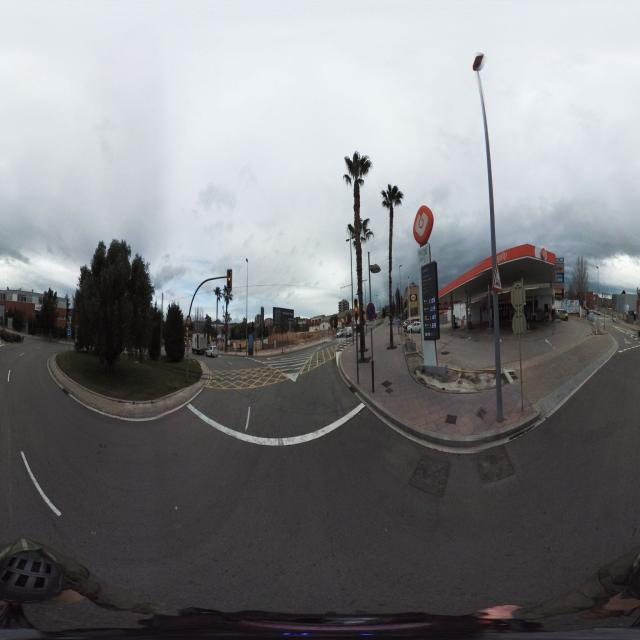forb_stopping: (367, 302, 376, 322)
